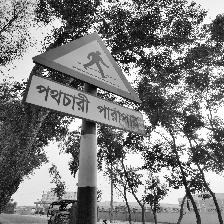Pedestrian-crossing: (23, 32, 146, 134)
